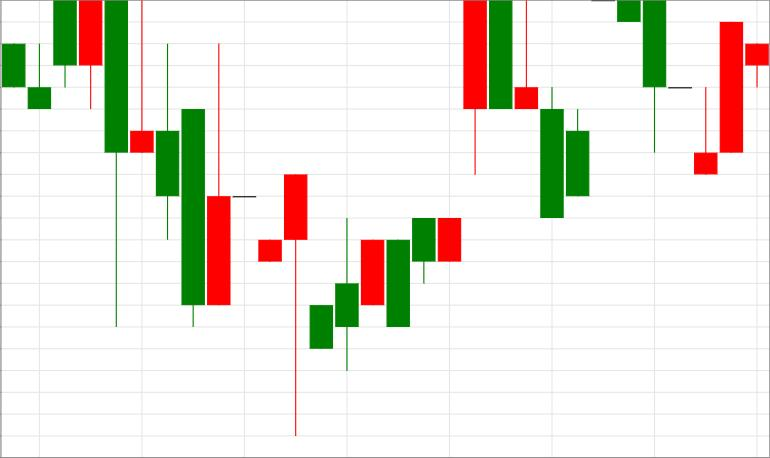inverse_hammer_rise: (591, 0, 718, 176)
